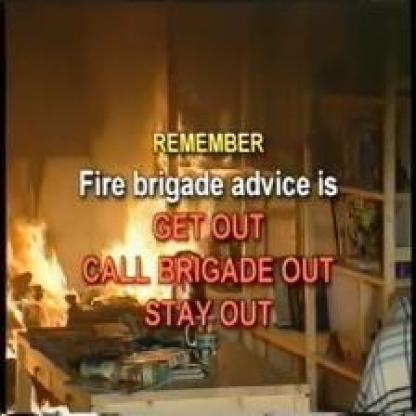fire: (6, 151, 203, 330)
